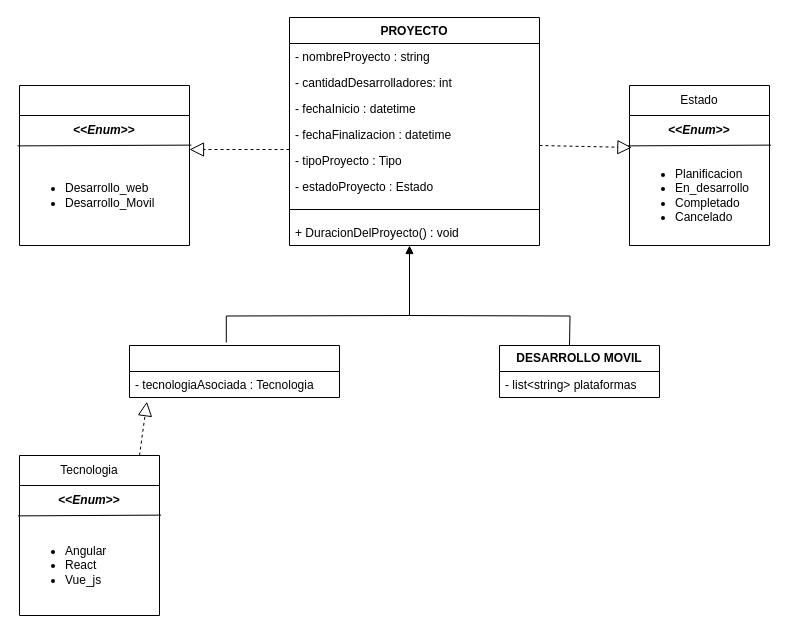
This 790x633 diagram has some shape labels left out. The box of each missing label's shape, as (x1, y1, x2, y2) in pixels:
DESARROLLO WEB: (128, 344, 340, 398)
Tipo: (18, 84, 190, 246)
